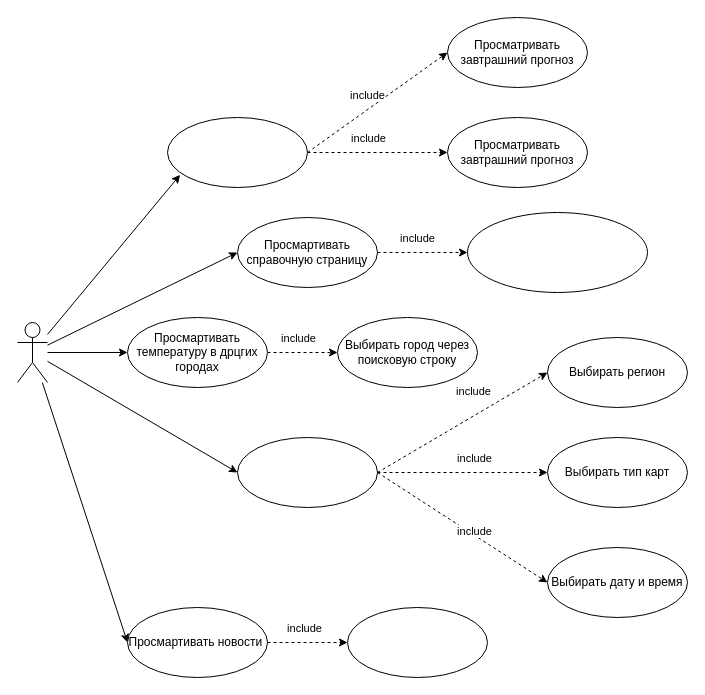
Some shapes in this 705 by 695 pixel diagram are drawn without their labels. Here are the shapes that lost their labels. From the top down, the centre of each, then its label:
pixel 237 152: Просмартивать температуру в своем городе
pixel 557 252: Переход на сайты для установки приложений на предлагаемых платформах
pixel 32 352: User
pixel 307 472: Просмартивать информативные карты о погоде
pixel 417 642: Выбирать раздел
